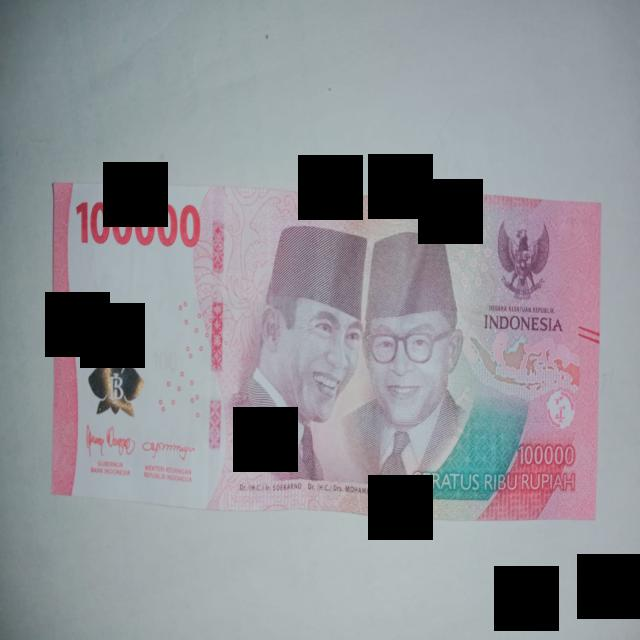seratusribu rupiah: (52, 183, 600, 520)
